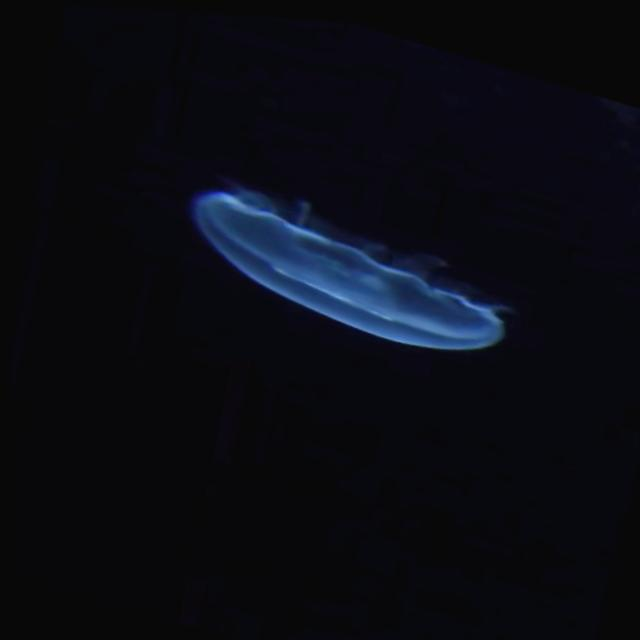Moon-jellyfish: (185, 182, 506, 344)
